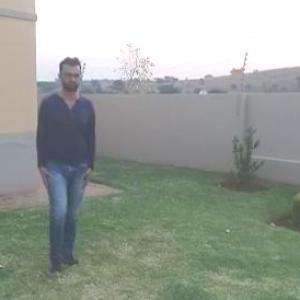follow: (33, 58, 96, 245)
